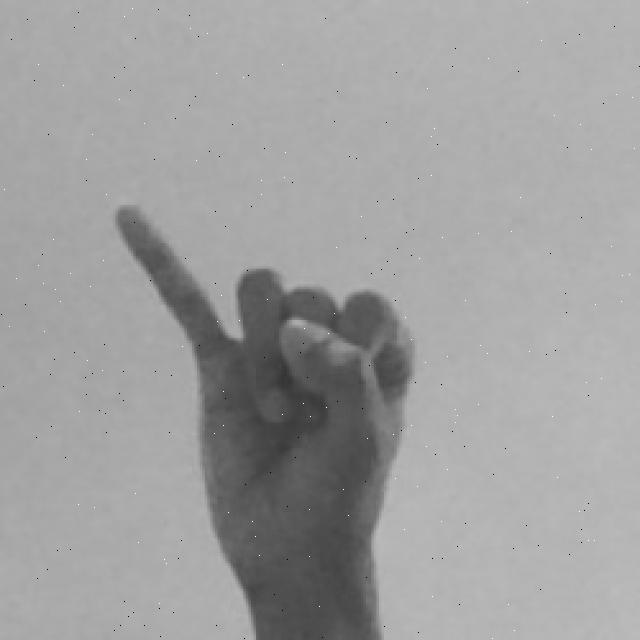I: (106, 193, 425, 640)
